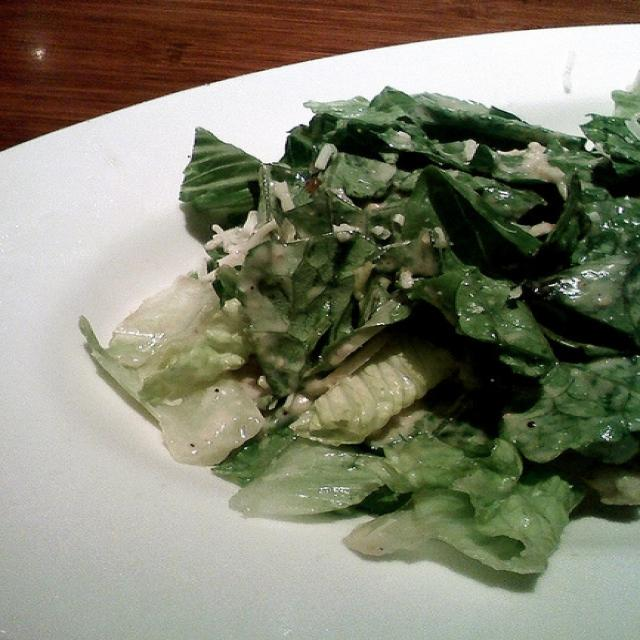蔬菜料理: (34, 23, 630, 626)
